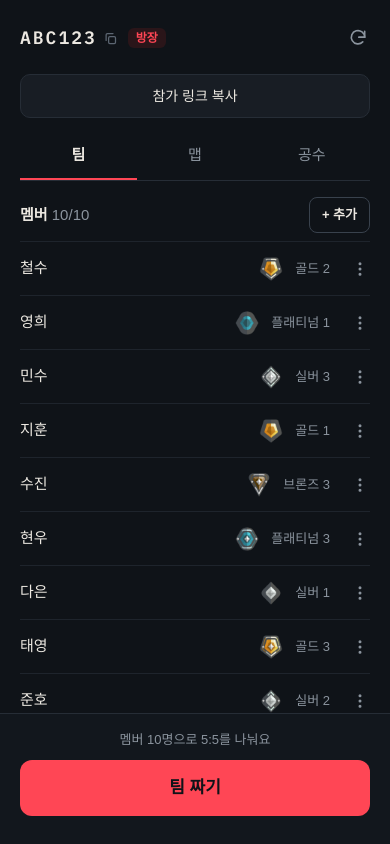
it: 팀 결과 선수 교체 › 되돌리기 → 자동 생성 결과, 완료 → 교체 모드 종료
Step 1. Click the button "팀 짜기" → x=195, y=788, box [20,760,370,816]
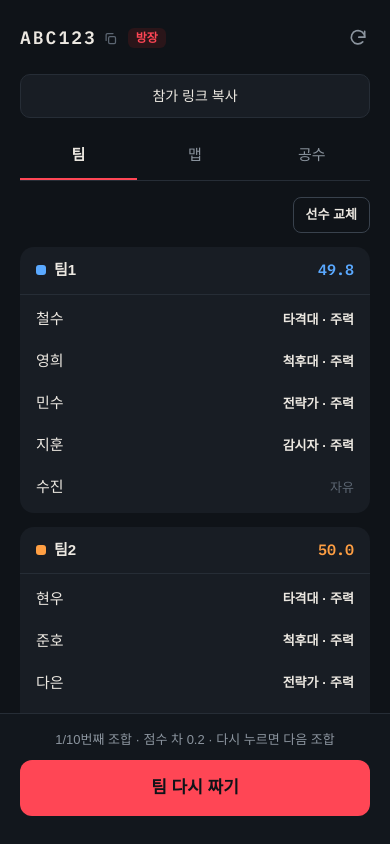
Step 2. Click the button "선수 교체" → x=331, y=215, box [292,197,370,233]
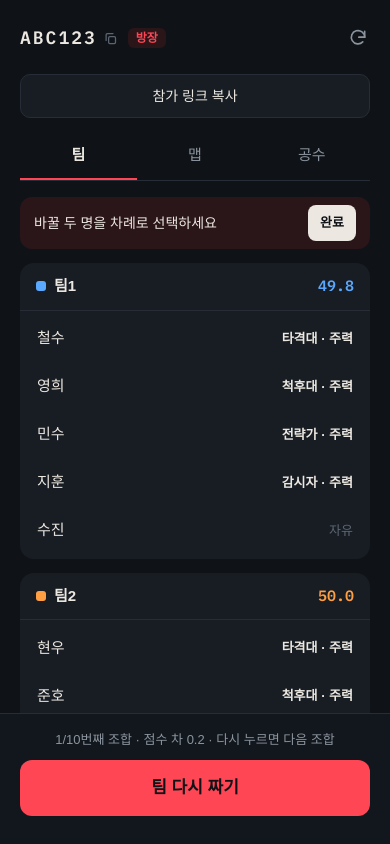
Step 3. Click the button "철수 타격대 · 주력" → x=317, y=338, box [26,316,364,360]
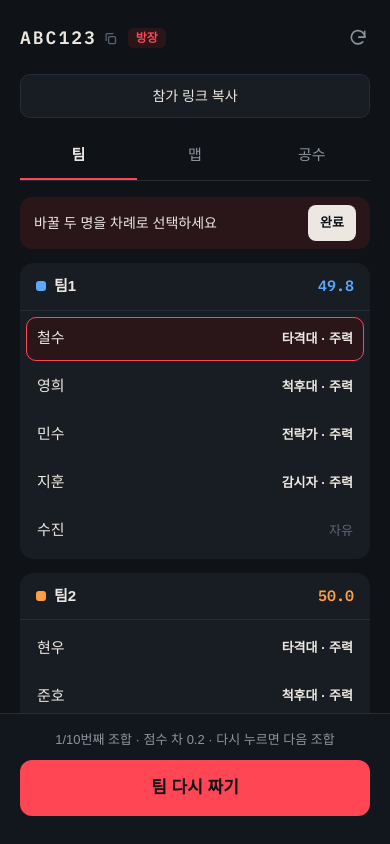
Step 4. Click the button "현우 타격대 · 주력" → x=317, y=648, box [26,626,364,670]
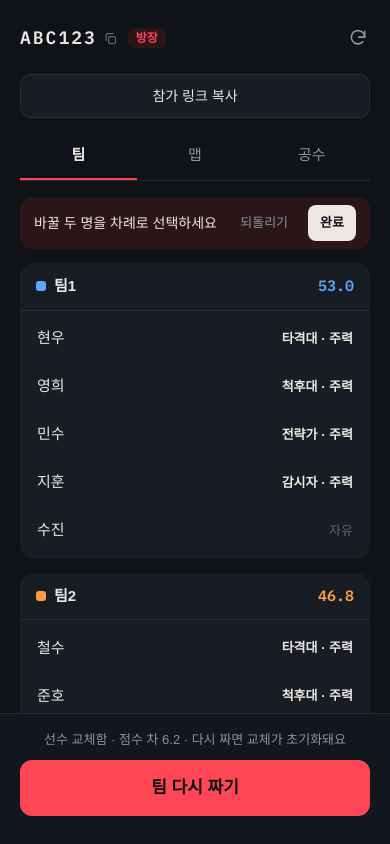
Step 5. Click the button "되돌리기" → x=264, y=223, box [228,205,300,241]
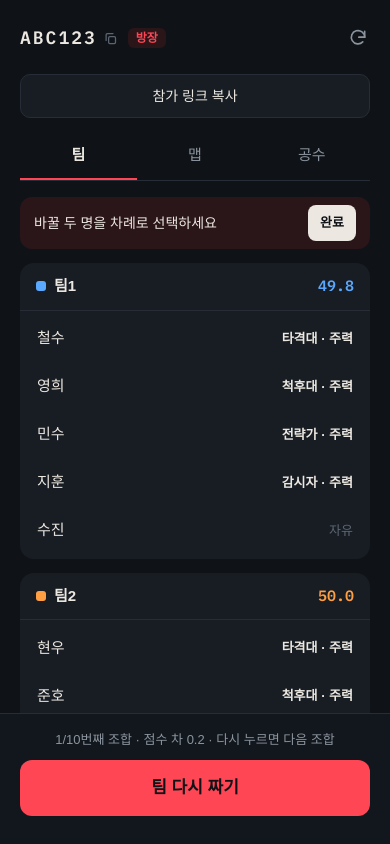
Expected: no buttons "되돌리기" are shown
Step 6. Click the button "완료" → x=332, y=223, box [308,205,356,241]
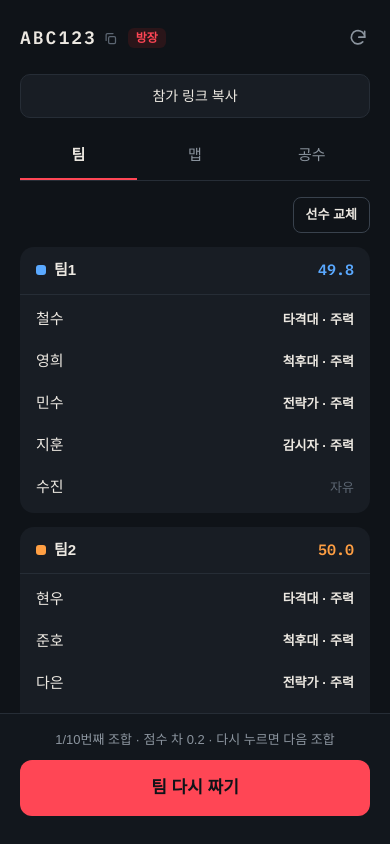
Expected: the text "바꿀 두 명을 차례로 선택하세요" is not shown
